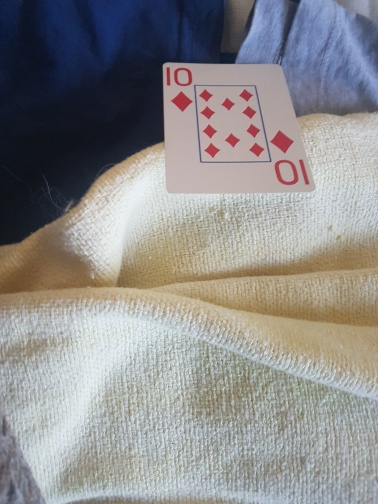ten: (162, 62, 317, 194)
